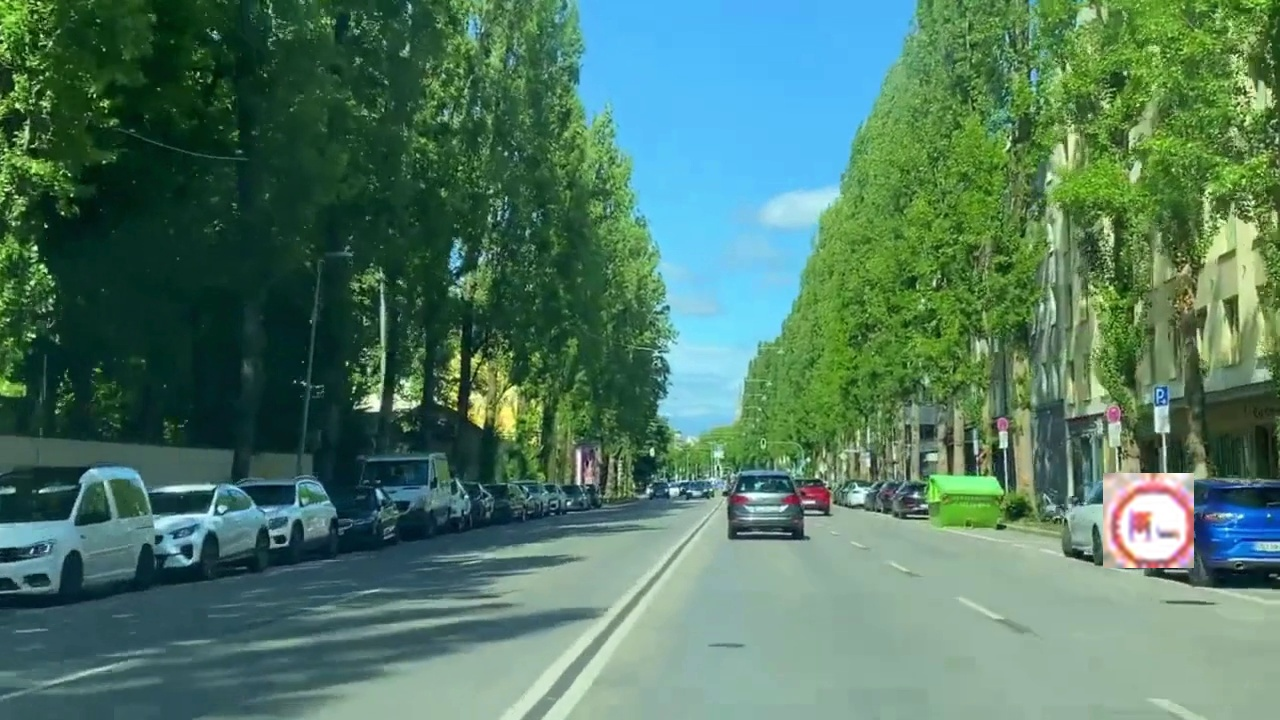No pass >3.5t: (1103, 473, 1194, 568)
